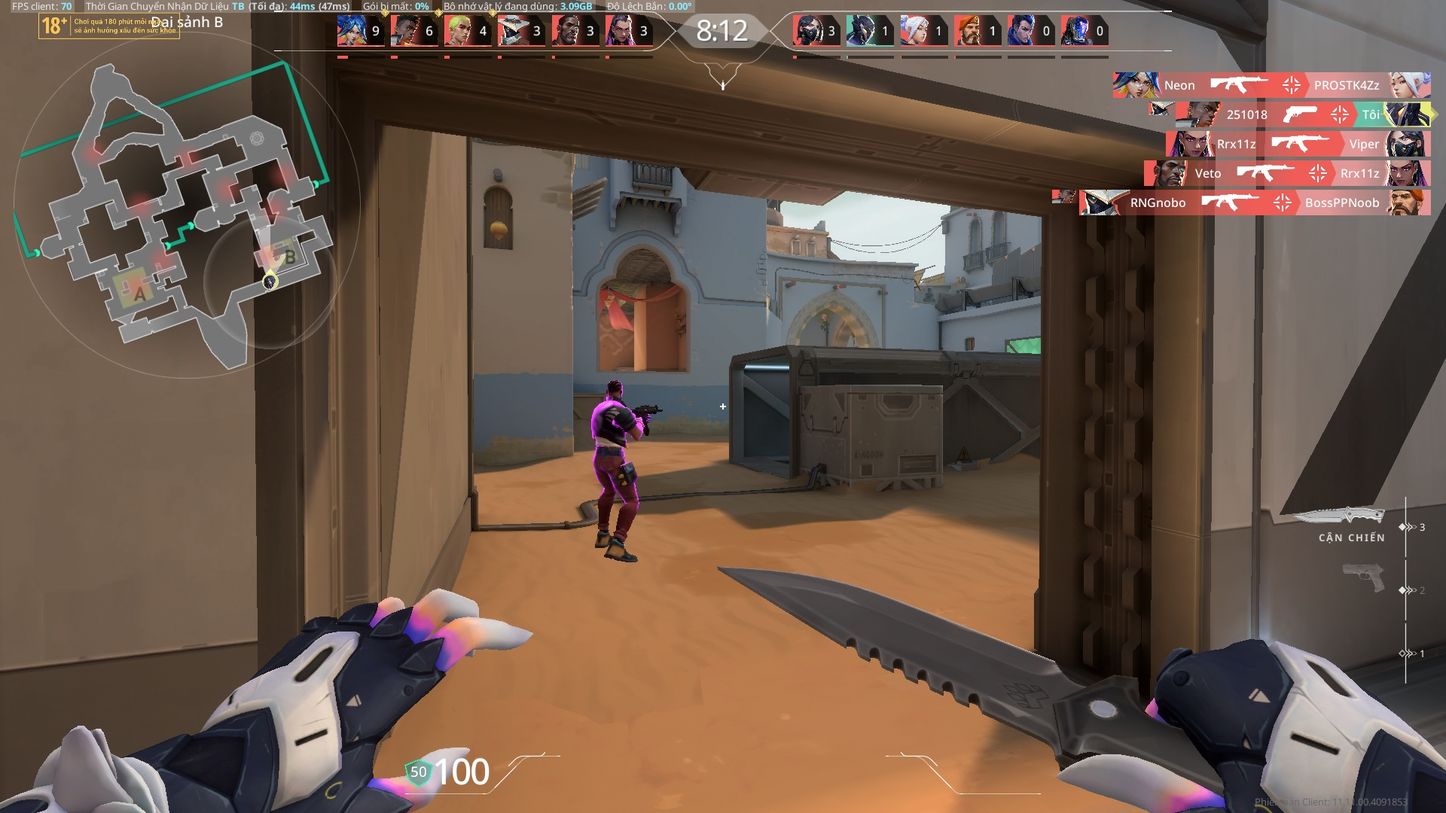body: (593, 399, 633, 454)
head: (603, 373, 626, 397)
